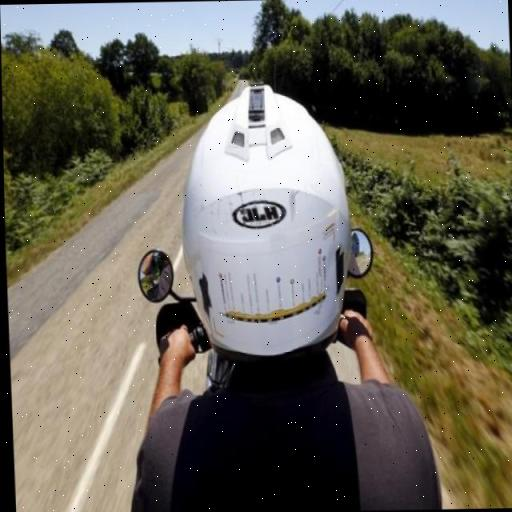Helmet: (133, 58, 386, 392)
